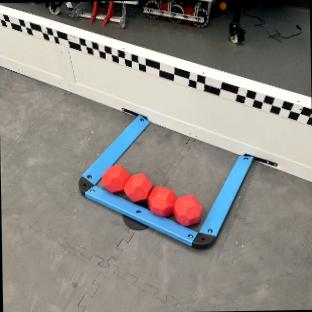V5_RED: (101, 164, 199, 226)
